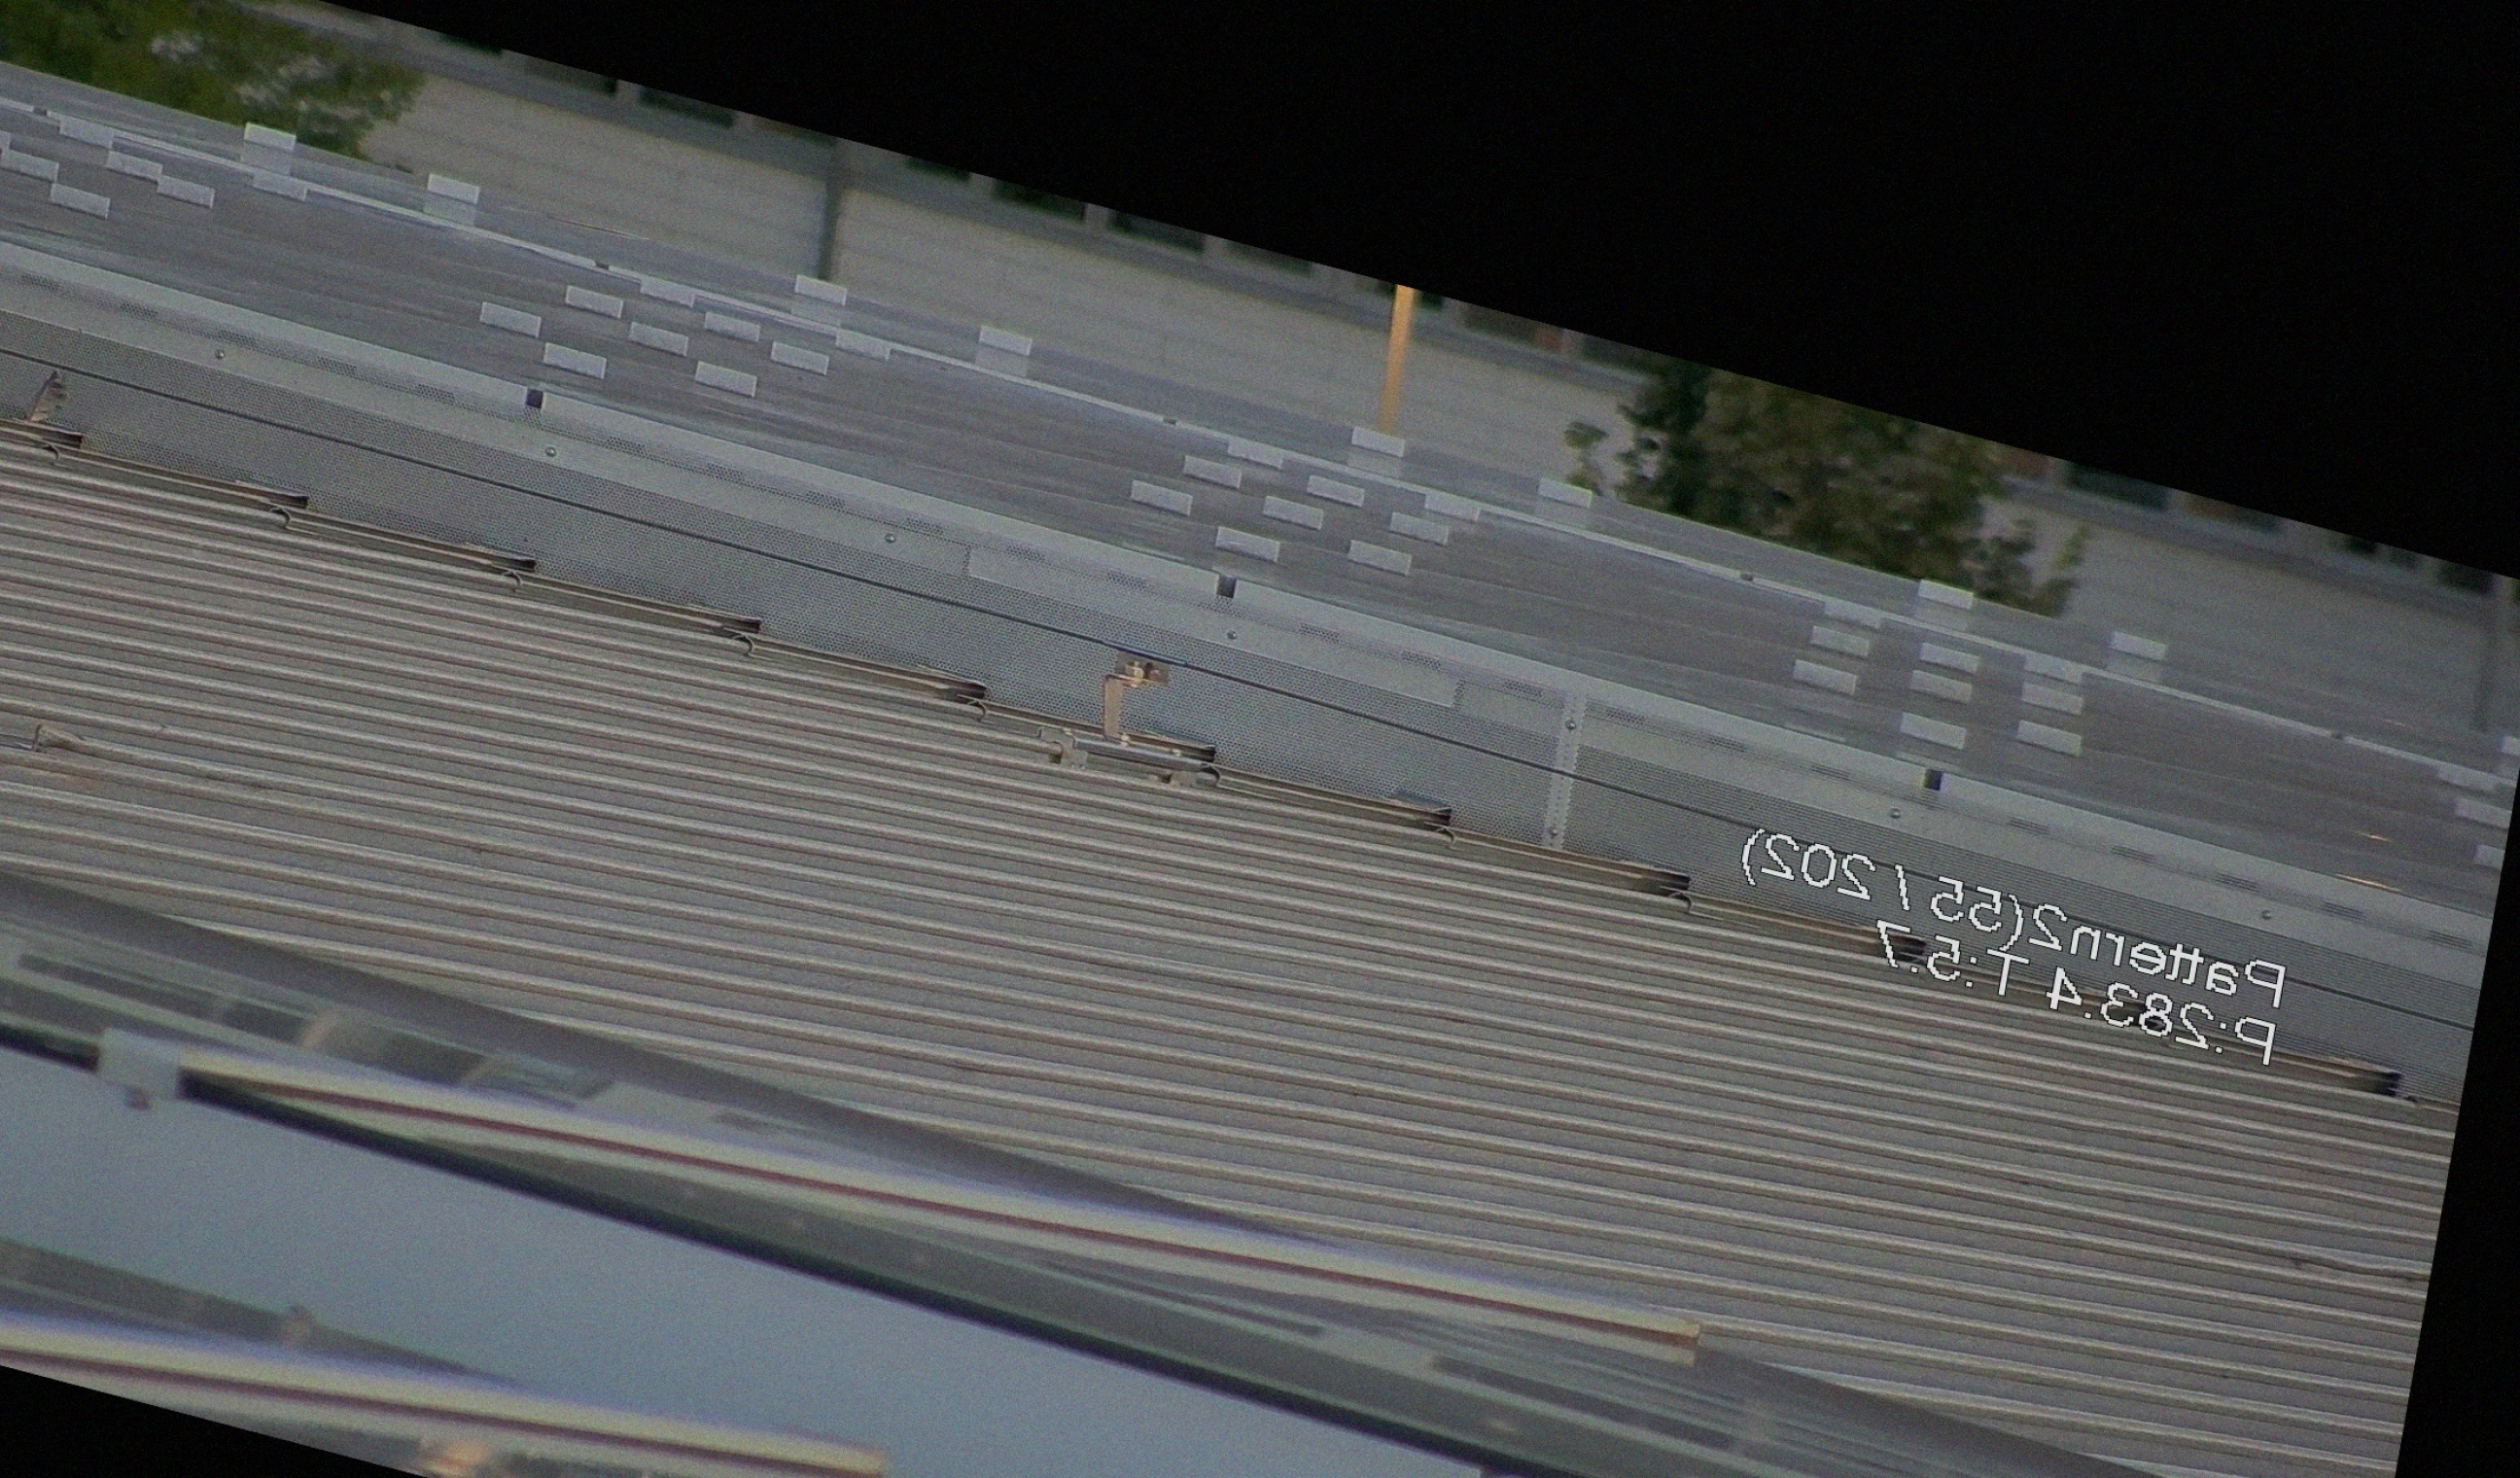Other: (2, 345, 81, 450)
